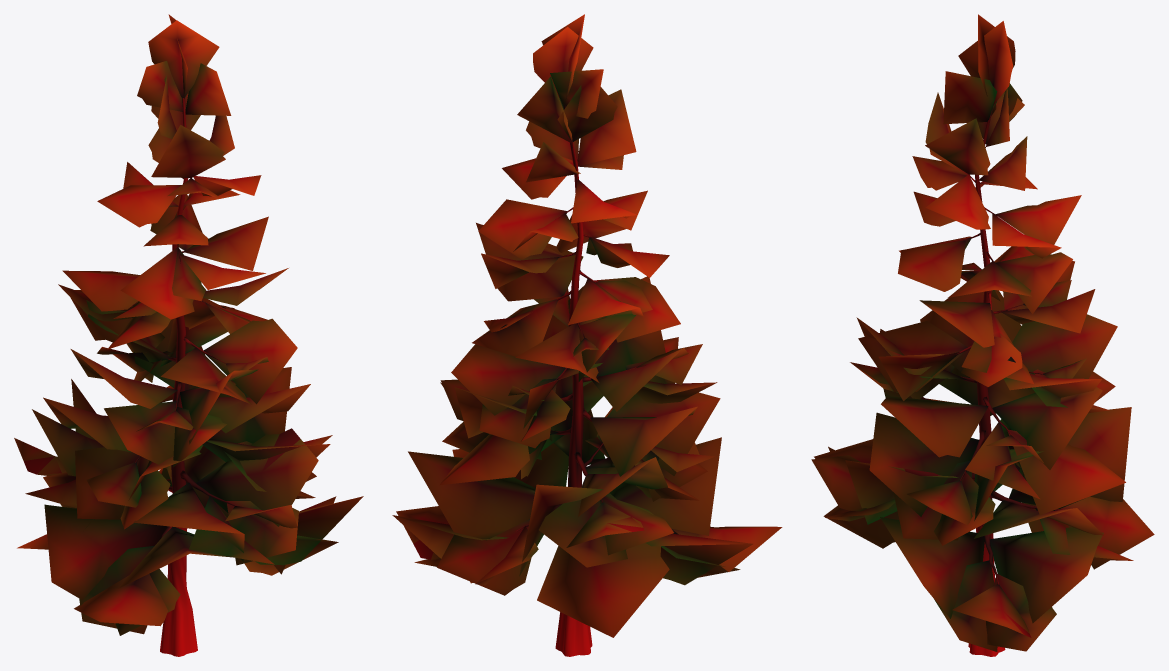
File: SpruceTreeRHEWP_B.fbx
3 renders of one model, left to right at view 1: azimuth 30°, elevation 25°; view 2: azimuth 150°, elevation 25°; view 3: azimuth 270°, elevation 25°, orthographic.
Visible parts, largest first — view 1: STB_Leaves_LOD0, STB_Bark_LOD0; view 2: STB_Leaves_LOD0, STB_Bark_LOD0; view 3: STB_Leaves_LOD0, STB_Bark_LOD0.
Part boxes in pixels (box(x1,y1,x2,y2)): STB_Leaves_LOD0: box(14, 14, 363, 635); STB_Bark_LOD0: box(135, 98, 235, 656); STB_Leaves_LOD0: box(392, 14, 782, 637); STB_Bark_LOD0: box(515, 105, 636, 656); STB_Leaves_LOD0: box(811, 14, 1154, 651); STB_Bark_LOD0: box(955, 107, 1059, 656).
Size of what is drawn, in the model's own units: 12.24 by 23.08 by 11.35.
